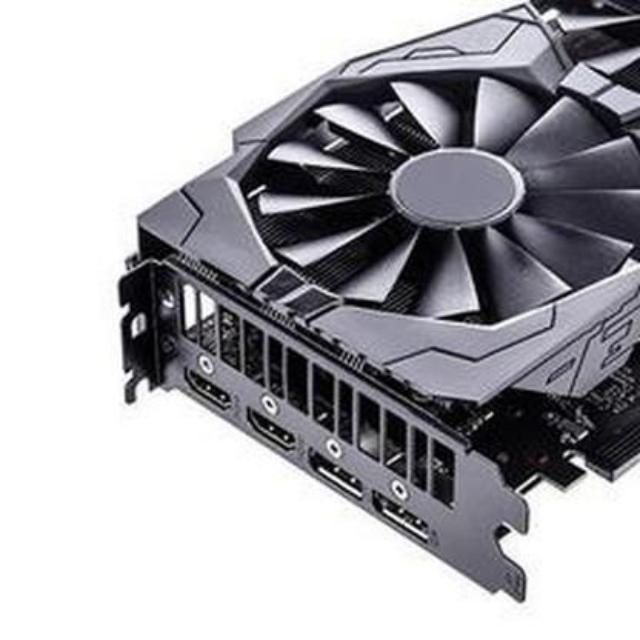GPU: (115, 0, 640, 585)
